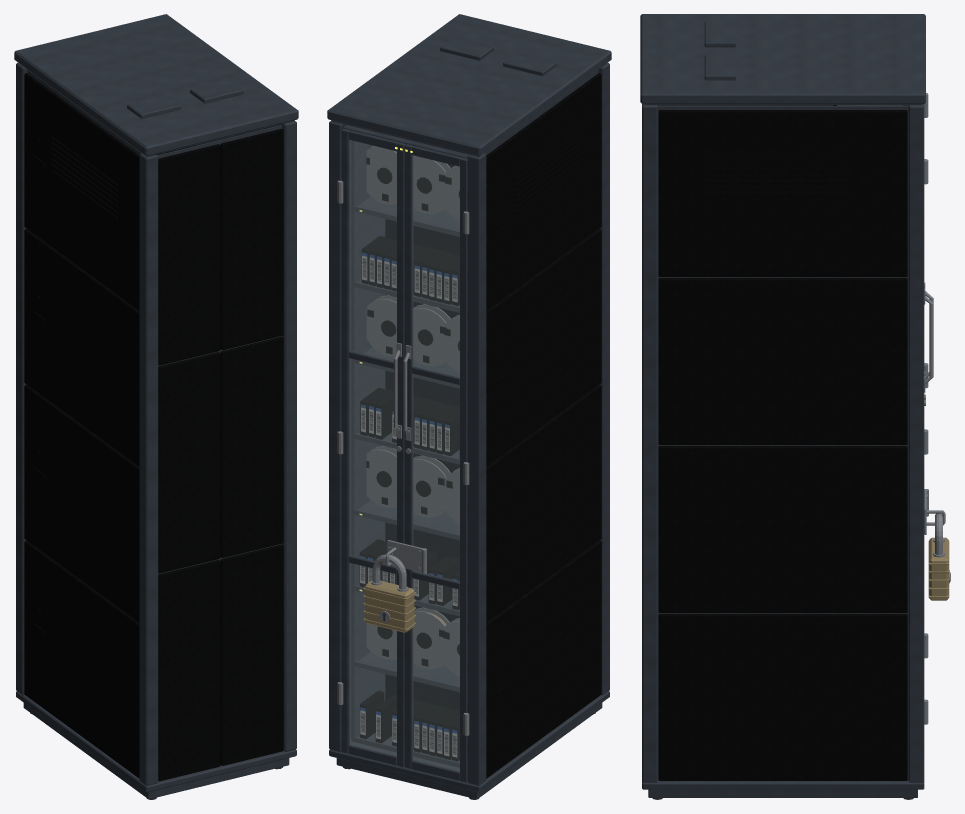
File: server_rack_locked.glb
The picture shows the model from 3 angles, left to right: view 1: azimuth 30°, elevation 25°; view 2: azimuth 150°, elevation 25°; view 3: azimuth 270°, elevation 25°; orthographic projection. The views are drawn at different scales.
Parts seen in each view (by area): view 1: BackPanel, SidePanels, Frame; view 2: SidePanels, Frame, Door_XN, Door_XP, Shelves, TapeReels, TapeCarts, TapeLabels, Padlock; view 3: SidePanels, Frame, Padlock, Door_XP, Door_XN.
Part boxes in pixels (<box>): BackPanel: <box>158,128,283,781</box>; SidePanels: <box>24,73,139,778</box>; Frame: <box>14,14,298,799</box>; SidePanels: <box>486,73,601,778</box>; Frame: <box>327,14,611,799</box>; Door_XN: <box>387,144,469,782</box>; Door_XP: <box>337,128,405,766</box>; Shelves: <box>351,140,459,767</box>; TapeReels: <box>366,146,459,676</box>; TapeCarts: <box>359,236,459,761</box>; TapeLabels: <box>360,252,457,757</box>; Padlock: <box>363,554,415,632</box>; SidePanels: <box>658,110,907,780</box>; Frame: <box>640,14,925,799</box>; Padlock: <box>928,513,950,600</box>; Door_XP: <box>924,159,945,724</box>; Door_XN: <box>924,93,933,658</box>.
Size of the model in its own units: 12.2 by 50.33 by 19.77.
10 materials, 7 textured.
